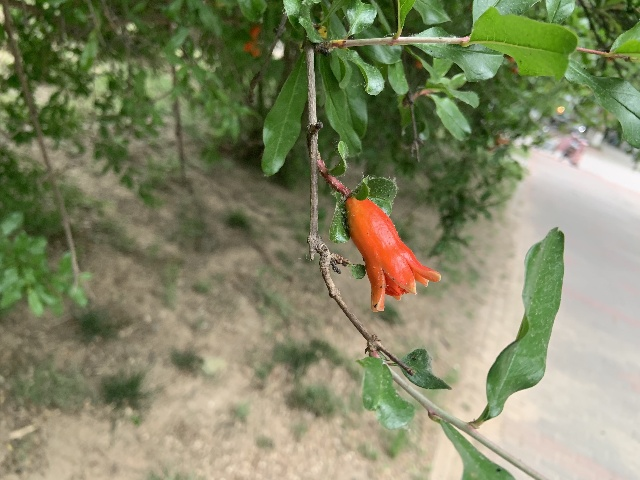flower: (345, 196, 440, 311)
